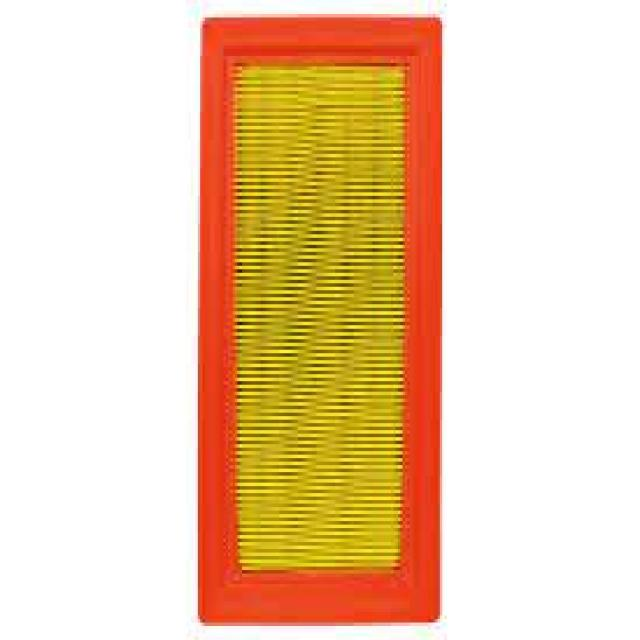air_filter: (194, 13, 449, 630)
